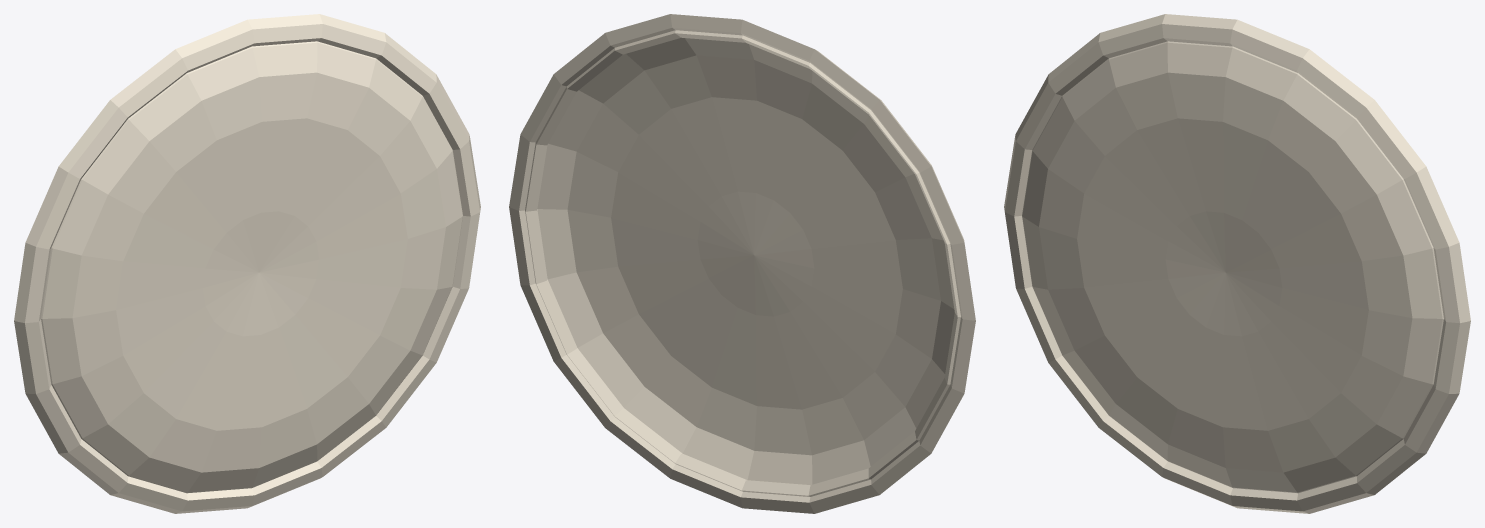
Rendered from Plate.fbx.
The picture shows the model from 3 angles, left to right: view 1: azimuth 30°, elevation 25°; view 2: azimuth 150°, elevation 25°; view 3: azimuth 330°, elevation 25°; orthographic projection.
Parts seen in each view (by area): view 1: Plate; view 2: Plate; view 3: Plate.
Boxes of the visible parts, x1,y1,x2,y2 form: Plate: (14, 14, 480, 513); Plate: (509, 14, 975, 513); Plate: (1004, 14, 1470, 513).
Size of the model in its own units: 0.8 by 0.8 by 0.048.
